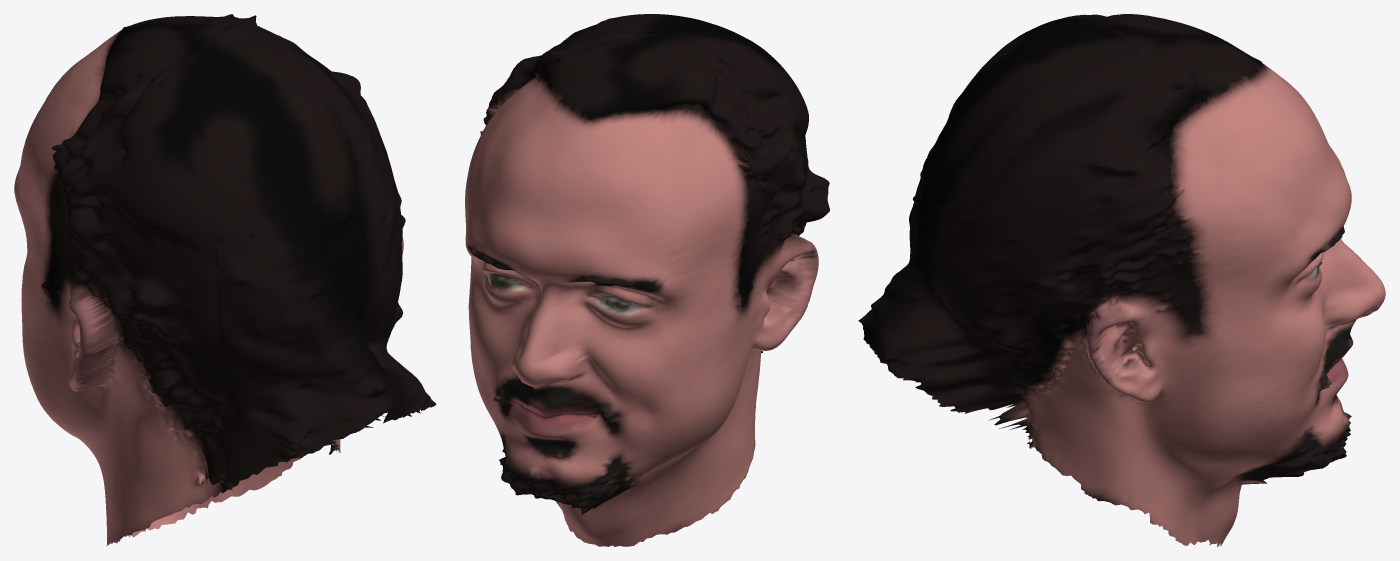
The model's file is Lawlor.gltf.
The picture shows the model from 3 angles, left to right: view 1: azimuth 30°, elevation 25°; view 2: azimuth 150°, elevation 25°; view 3: azimuth 270°, elevation 25°; orthographic projection. The views are drawn at different scales.
Parts seen in each view (by area): view 1: Orion_Lawlor_cap_100k; view 2: Orion_Lawlor_cap_100k; view 3: Orion_Lawlor_cap_100k.
Part boxes in pixels (box(x1,y1,x2,y2)): Orion_Lawlor_cap_100k: box(14, 14, 436, 545); Orion_Lawlor_cap_100k: box(465, 14, 829, 546); Orion_Lawlor_cap_100k: box(858, 14, 1385, 546).
Size of the model in its own units: 0.189 by 0.2802 by 0.2657.
